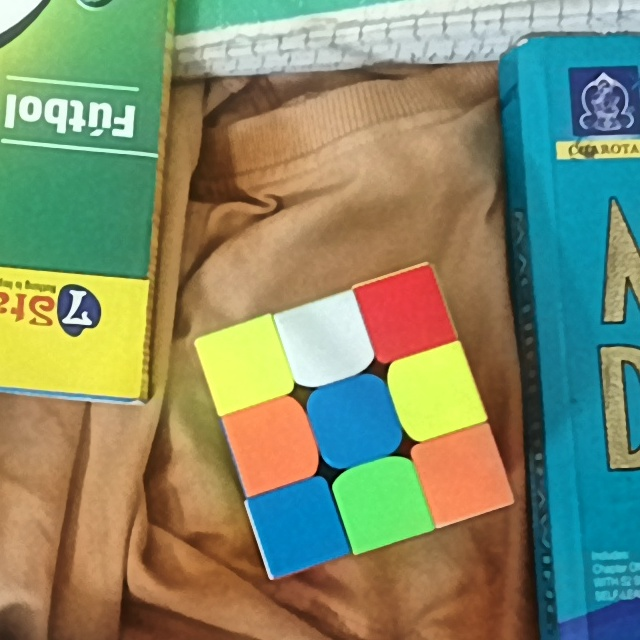tile: (240, 411, 306, 475), (401, 361, 466, 423), (325, 390, 389, 451), (212, 337, 279, 395), (294, 312, 357, 372), (351, 470, 414, 530), (271, 493, 331, 555), (432, 444, 492, 506), (374, 286, 436, 345)
